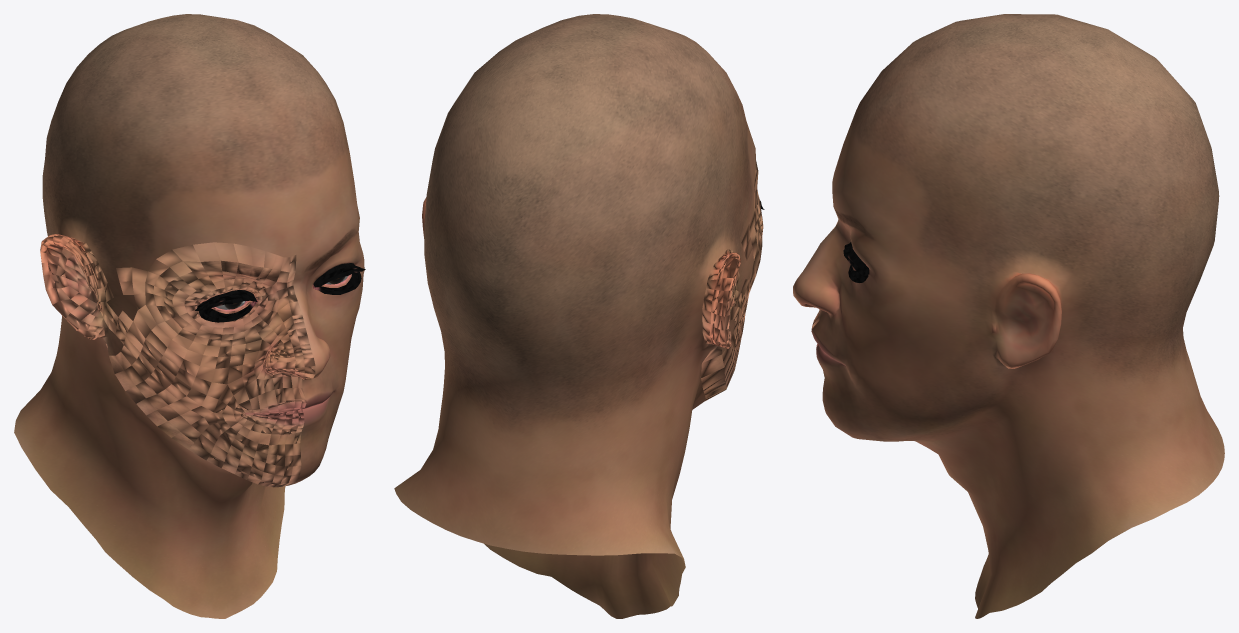
The model's file is sranipal_head.fbx.
3 renders of one model, left to right at view 1: azimuth 30°, elevation 25°; view 2: azimuth 150°, elevation 25°; view 3: azimuth 270°, elevation 25°, orthographic. The views are drawn at different scales.
Parts seen in each view (by area): view 1: Head; view 2: Head; view 3: Head.
Part boxes in pixels (box(x1,y1,x2,y2)): Head: box(14, 14, 365, 618); Head: box(394, 14, 764, 618); Head: box(793, 14, 1224, 618).
Size of the model in its own units: 19.77 by 36.25 by 24.28.
